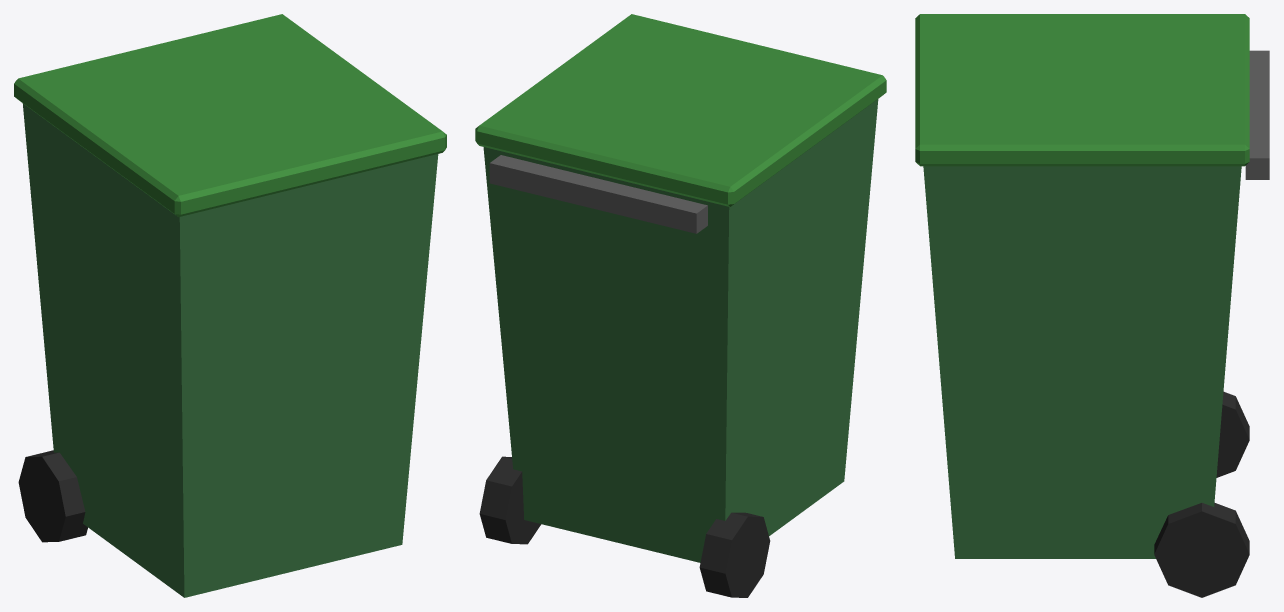
The model's file is PRP_Bin.fbx.
3 views of the same model, side by side, from view 1: azimuth 30°, elevation 25°; view 2: azimuth 150°, elevation 25°; view 3: azimuth 270°, elevation 25° (orthographic). The views are drawn at different scales.
Parts seen in each view (by area): view 1: PRP_Bin; view 2: PRP_Bin; view 3: PRP_Bin.
Part boxes in pixels (x1=…): PRP_Bin: x1=14, y1=14, x2=446, y2=597; PRP_Bin: x1=475, y1=14, x2=886, y2=597; PRP_Bin: x1=915, y1=14, x2=1269, y2=597.
Bounding box in the file's own units: 2 × 3.15 × 2.22.
